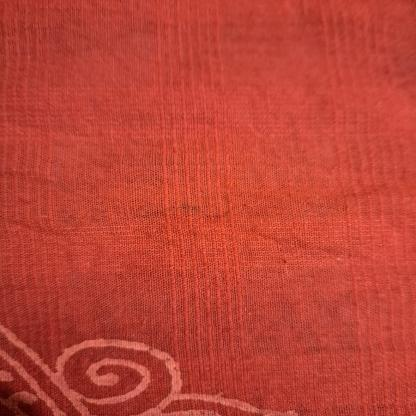spot: (166, 202, 214, 216)
